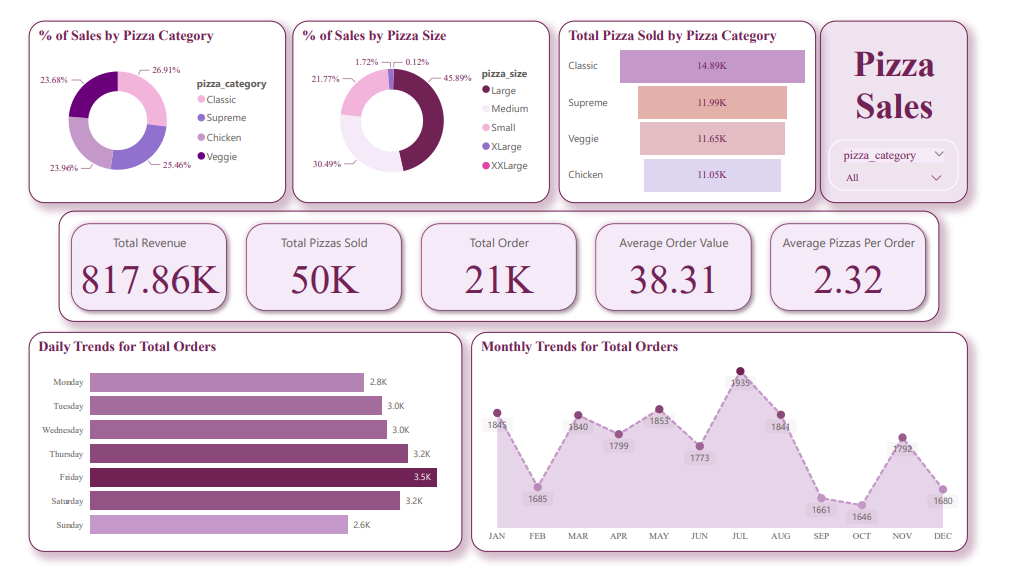

Layout of this report page (visuals, bound fields, positions):
{"tool":"powerbi","page":{"name":"Page 1","canvas":[1280,720],"ordinal":0},"visuals":[{"type":"cardVisual","fields":{"Data":["pizza_sales.Total Revenue","pizza_sales.Total Pizzas Sold","pizza_sales.Total Order","pizza_sales.Average Order Value","pizza_sales.Average Pizzas Per Order"]},"box":[52,258,1174,148],"z":0},{"type":"clusteredBarChart","title":"Daily Trends for Total Orders","fields":{"Category":["pizza_sales.Day Name"],"Y":["pizza_sales.Total Order"]},"box":[11.7,420,578.3,293.3],"z":1000},{"type":"stackedAreaChart","title":"Monthly Trends for Total Orders","fields":{"Category":["pizza_sales.Order Month"],"Y":["pizza_sales.Total Order"]},"box":[601.7,420,661.7,293.3],"z":2000},{"type":"donutChart","title":"% of Sales by Pizza Category","fields":{"Category":["pizza_sales.pizza_category"],"Y":["pizza_sales.Total Revenue"]},"box":[11.7,5,343.3,243.3],"z":4000},{"type":"donutChart","title":"% of Sales by Pizza Size","fields":{"Category":["pizza_sales.pizza_size"],"Y":["pizza_sales.Total Revenue"]},"box":[363.3,5,343.3,243.3],"z":4001},{"type":"funnel","title":"Total Pizza Sold by Pizza Category","fields":{"Y":["pizza_sales.Total Pizzas Sold"],"Category":["pizza_sales.pizza_category"]},"box":[718.3,5,343.3,243.3],"z":4002},{"type":"textbox","box":[1066.7,5,196.7,243.3],"z":4003},{"type":"slicer","fields":{"Values":["pizza_sales.pizza_category"]},"box":[1078.3,163.3,173.3,68.3],"z":4004}]}

Visuals, with their boxes in screenshot pixels (x1, y1, x2, y2), scaled from the page's 1280x720 canvas onto the 1009x584 screenshot:
cardVisual - pizza_sales.Total Revenue x pizza_sales.Total Pizzas Sold: <box>41,209,966,329</box>
"Daily Trends for Total Orders" clusteredBarChart: <box>9,341,465,579</box>
"Monthly Trends for Total Orders" stackedAreaChart: <box>474,341,996,579</box>
"% of Sales by Pizza Category" donutChart: <box>9,4,280,201</box>
"% of Sales by Pizza Size" donutChart: <box>286,4,557,201</box>
"Total Pizza Sold by Pizza Category" funnel: <box>566,4,837,201</box>
textbox: <box>841,4,996,201</box>
slicer - pizza_sales.pizza_category: <box>850,132,987,188</box>
